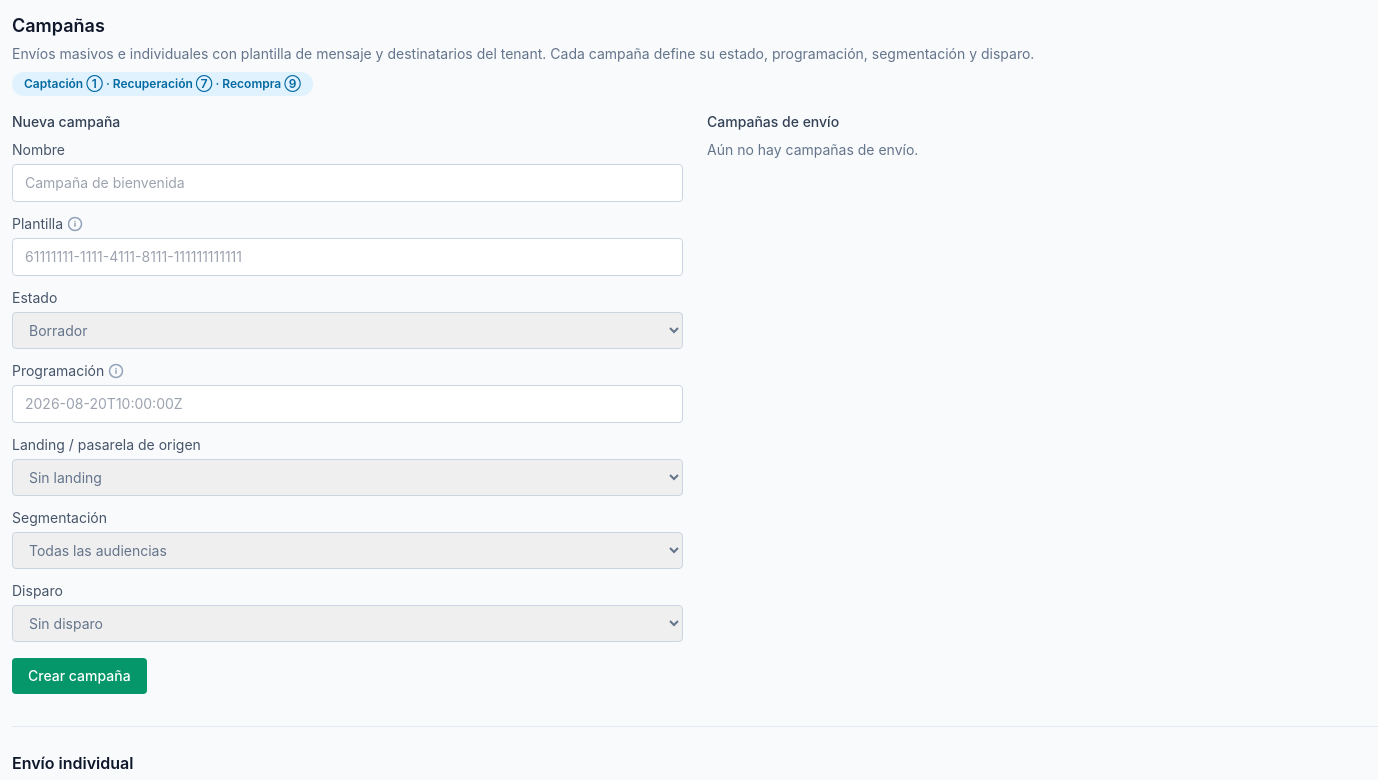
Test: CampaignsSection › valida el nombre obligatorio antes de crear
Expected: the text "Aún no hay campañas de envío." is shown, [707,141,918,158]
Click the button "Crear campaña": (79, 676) [12,658,147,694]
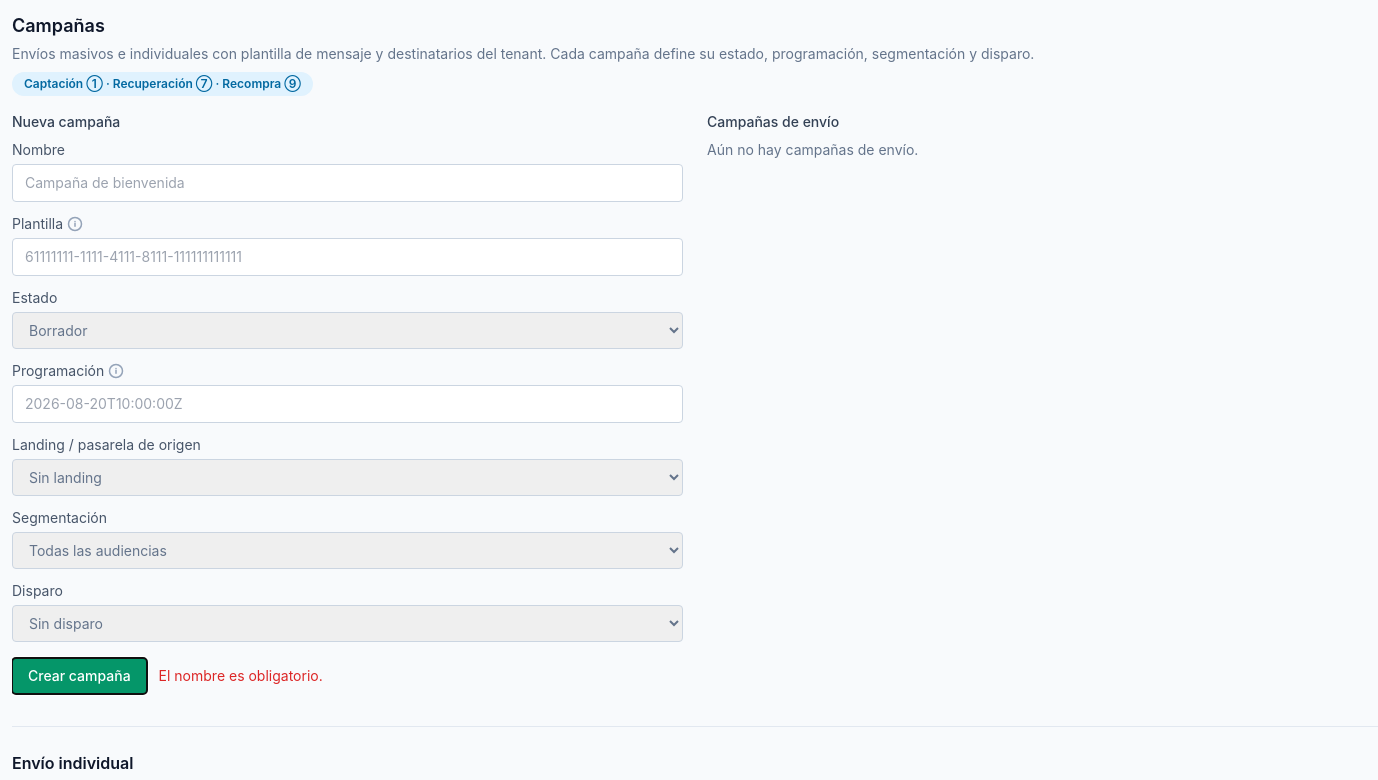
Expected: the text "El nombre es obligatorio." is shown, [159,667,323,684]
